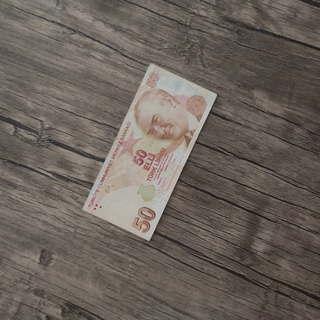50TLFront: (82, 62, 217, 241)
